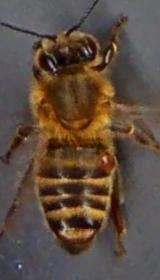varroa_mite: (83, 142, 124, 188)
